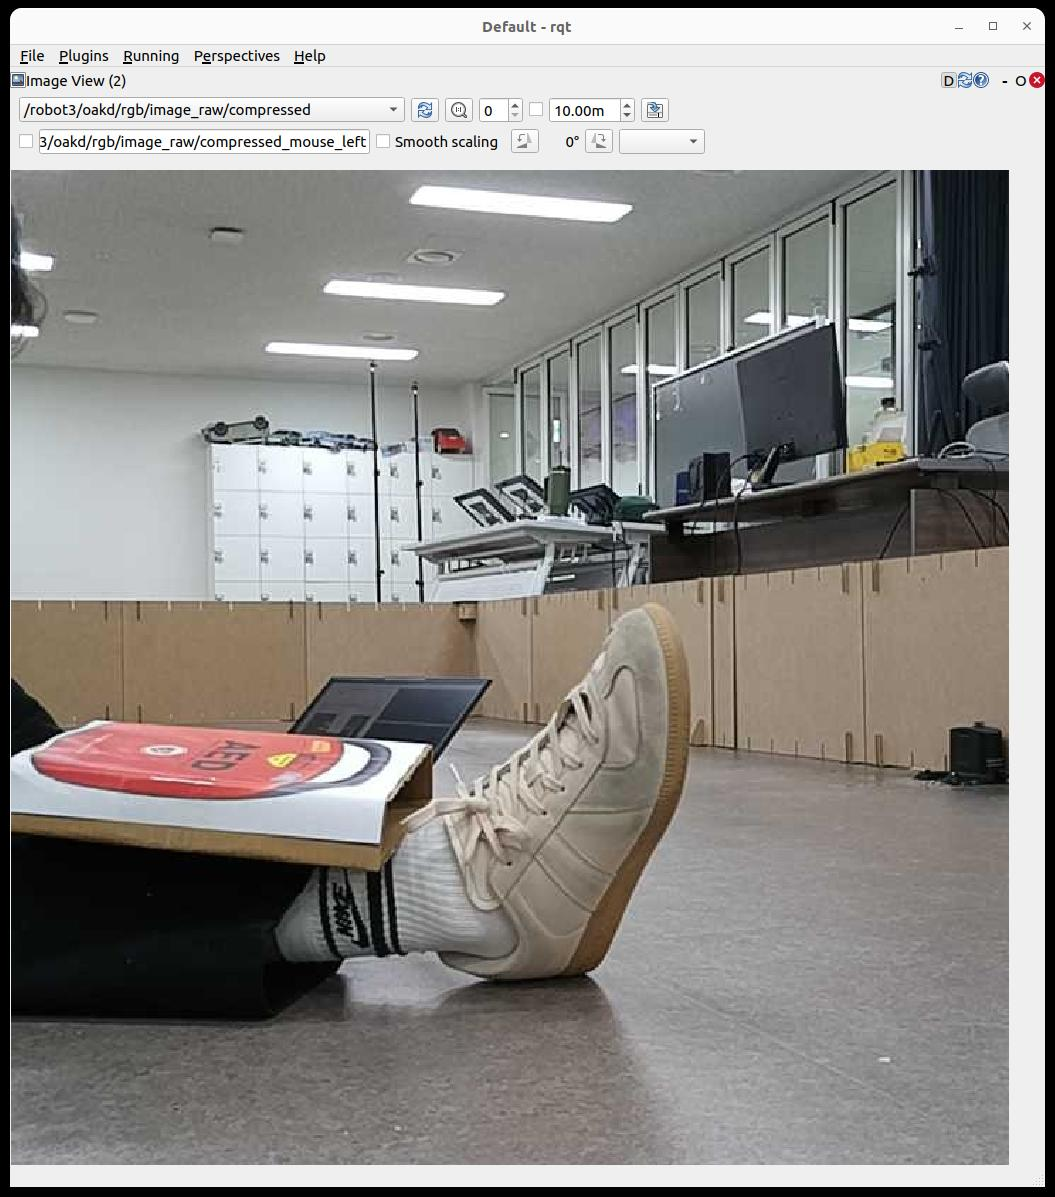AED: (10, 721, 431, 869)
